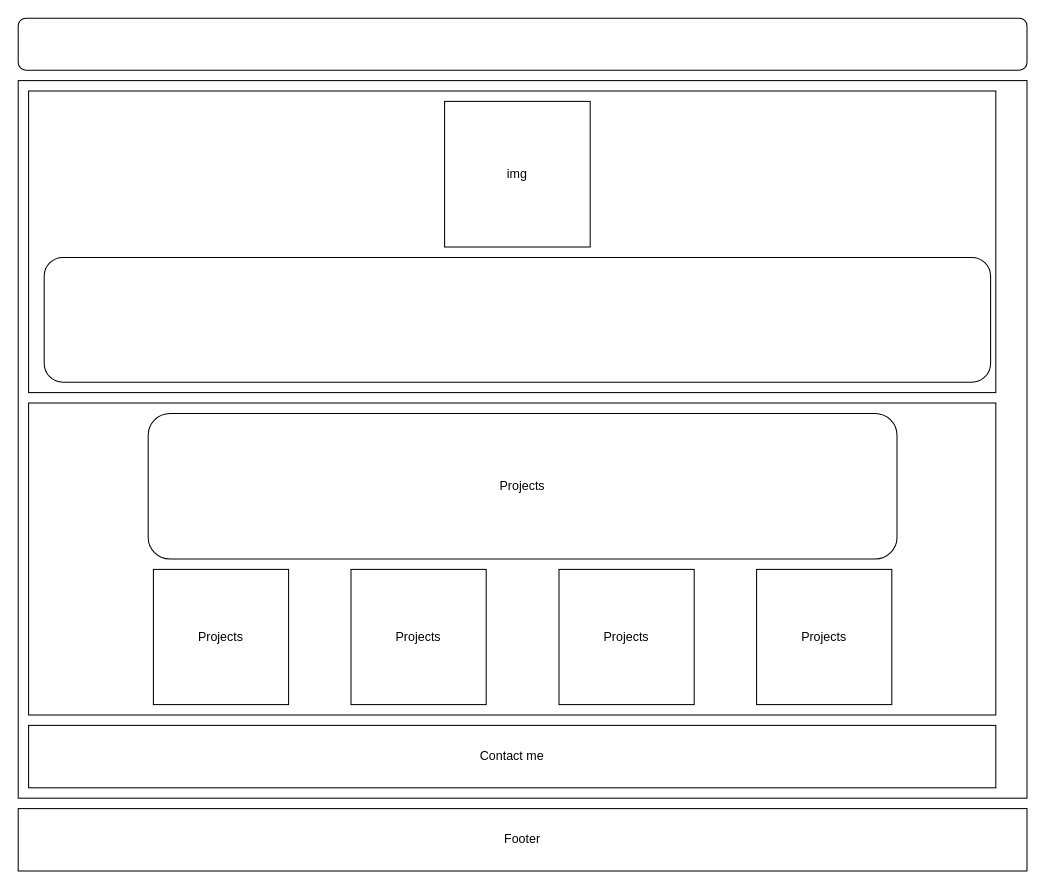
The diagram is 1045 pixels wide and 889 high, and some of its shapes have lost their labels. Here are the shapes that lost their labels. From the top down, the box of each, then its label:
(17, 17, 1027, 70): Header
(43, 256, 991, 382): About me
